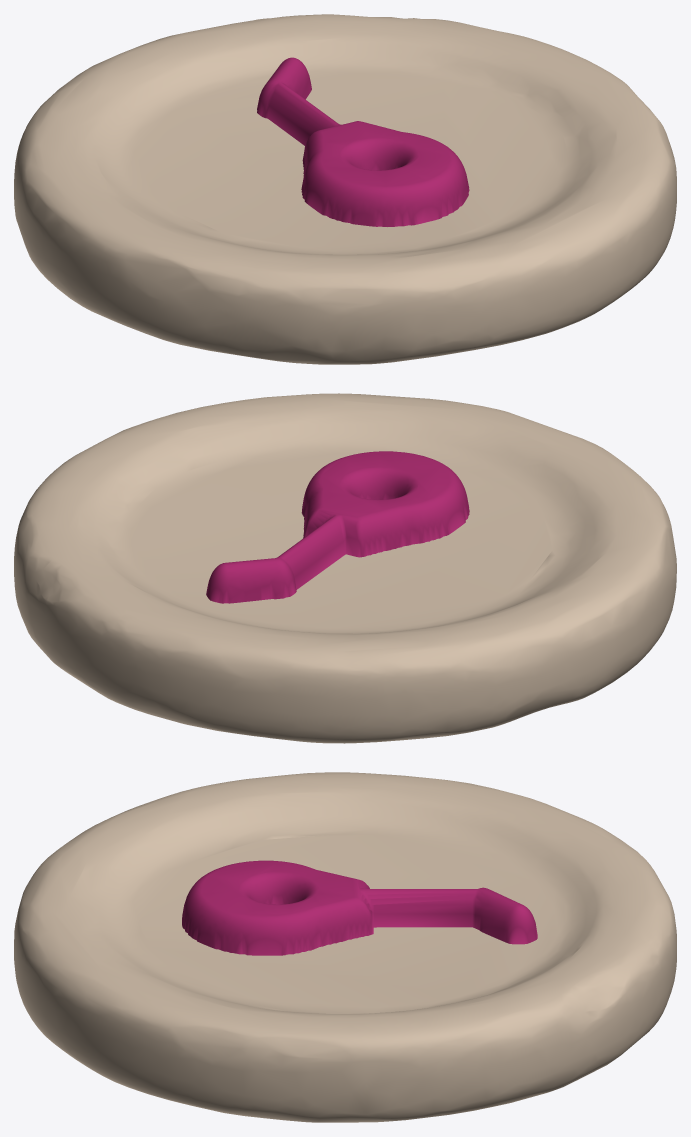
The model's file is token-bard-red.glb.
3 renders of one model, top to bottom at view 1: azimuth 30°, elevation 25°; view 2: azimuth 150°, elevation 25°; view 3: azimuth 270°, elevation 25°, orthographic.
Visible parts, largest first — view 1: token_bard_red; view 2: token_bard_red; view 3: token_bard_red.
Boxes of the visible parts, <box> form: token_bard_red: <box>14,14,676,364</box>; token_bard_red: <box>14,393,676,743</box>; token_bard_red: <box>14,772,676,1122</box>.
Size of the model in its own units: 0.414 by 0.0722 by 0.4142.
